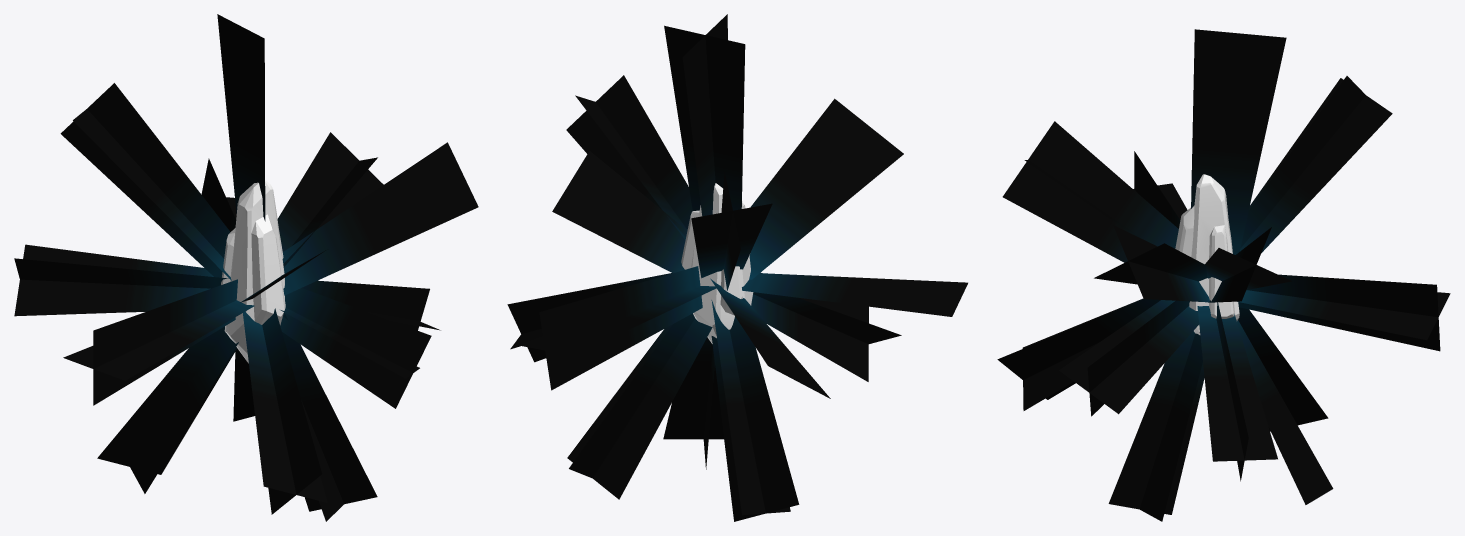
The model's file is CRYSTAL_CLAIMABLE.fbx.
3 views of the same model, side by side, from view 1: azimuth 30°, elevation 25°; view 2: azimuth 150°, elevation 25°; view 3: azimuth 270°, elevation 25° (orthographic).
Visible parts, largest first — view 1: fx_crystal_glow_blue_01, fx_monolith_crystal_blue_glow_02; view 2: fx_crystal_glow_blue_01, fx_monolith_crystal_blue_glow_02; view 3: fx_crystal_glow_blue_01, fx_monolith_crystal_blue_glow_02.
Part boxes in pixels (bbox=[...]): fx_crystal_glow_blue_01: bbox=[14, 14, 478, 521]; fx_monolith_crystal_blue_glow_02: bbox=[221, 180, 285, 363]; fx_crystal_glow_blue_01: bbox=[507, 14, 967, 521]; fx_monolith_crystal_blue_glow_02: bbox=[681, 183, 753, 343]; fx_crystal_glow_blue_01: bbox=[997, 29, 1450, 521]; fx_monolith_crystal_blue_glow_02: bbox=[1175, 174, 1239, 334].
Size of the model in its own units: 11.47 by 12.77 by 11.17.
Materials: 3 (2 with a texture image).
